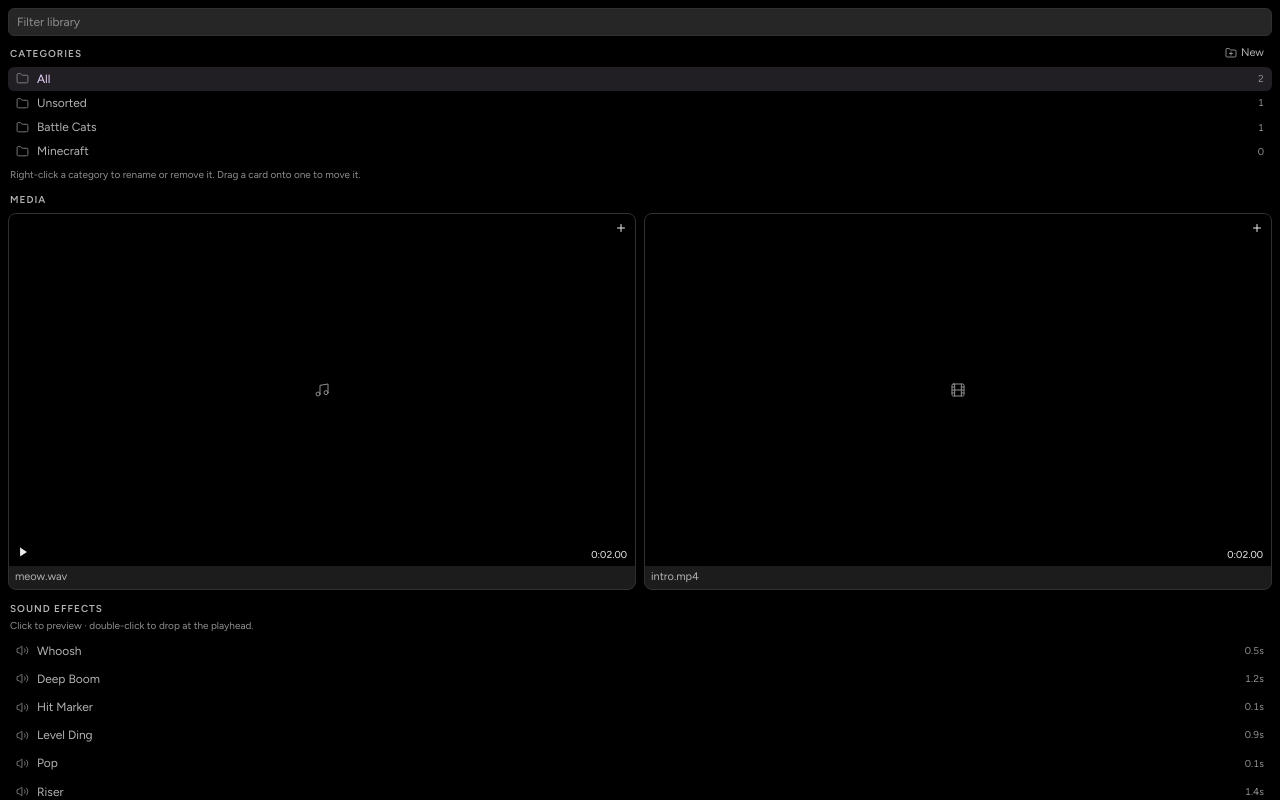
the Library tab with categories › shows only one category when he clicks it
Click the button with test id "library-category": (67, 127) [16,120,1264,134]
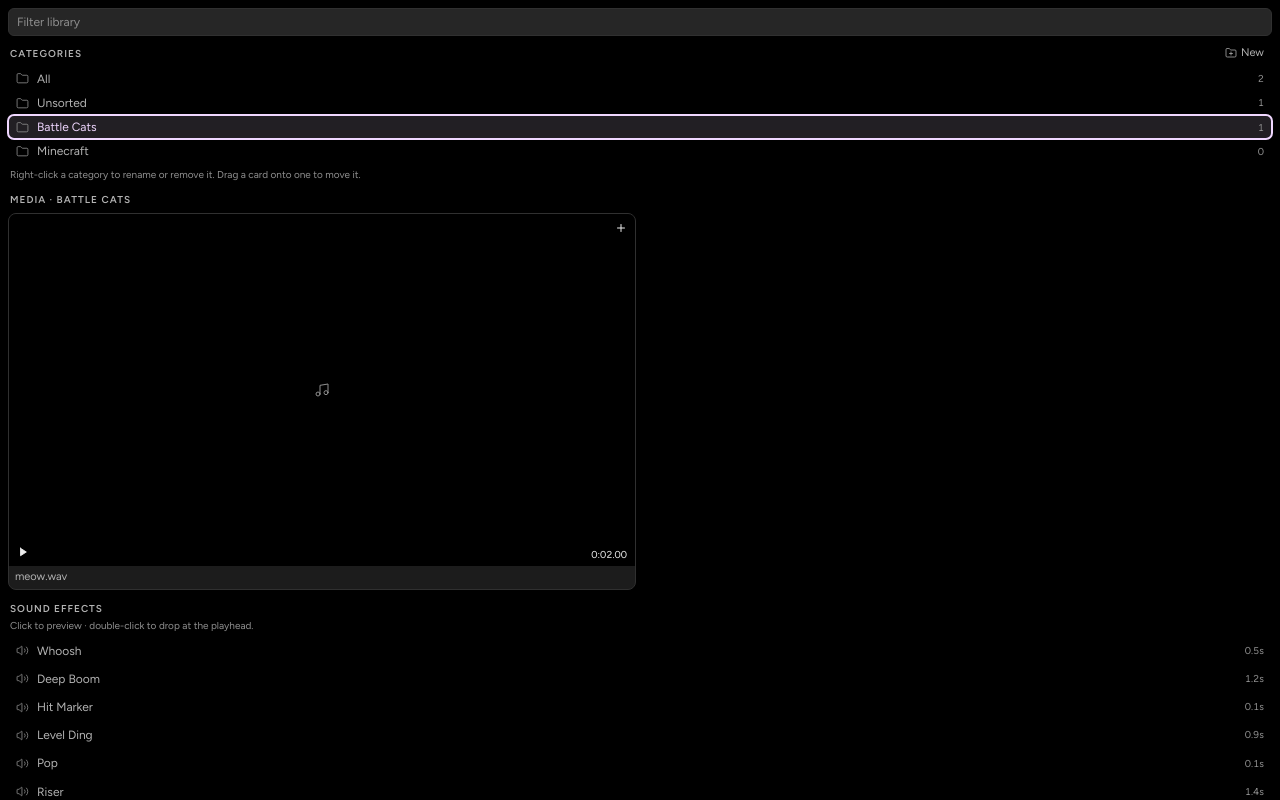
Result: the heading "Media · Battle Cats" is shown at [10,193,131,206]
Click the button with test id "library-category": (63, 151) [16,144,1264,158]
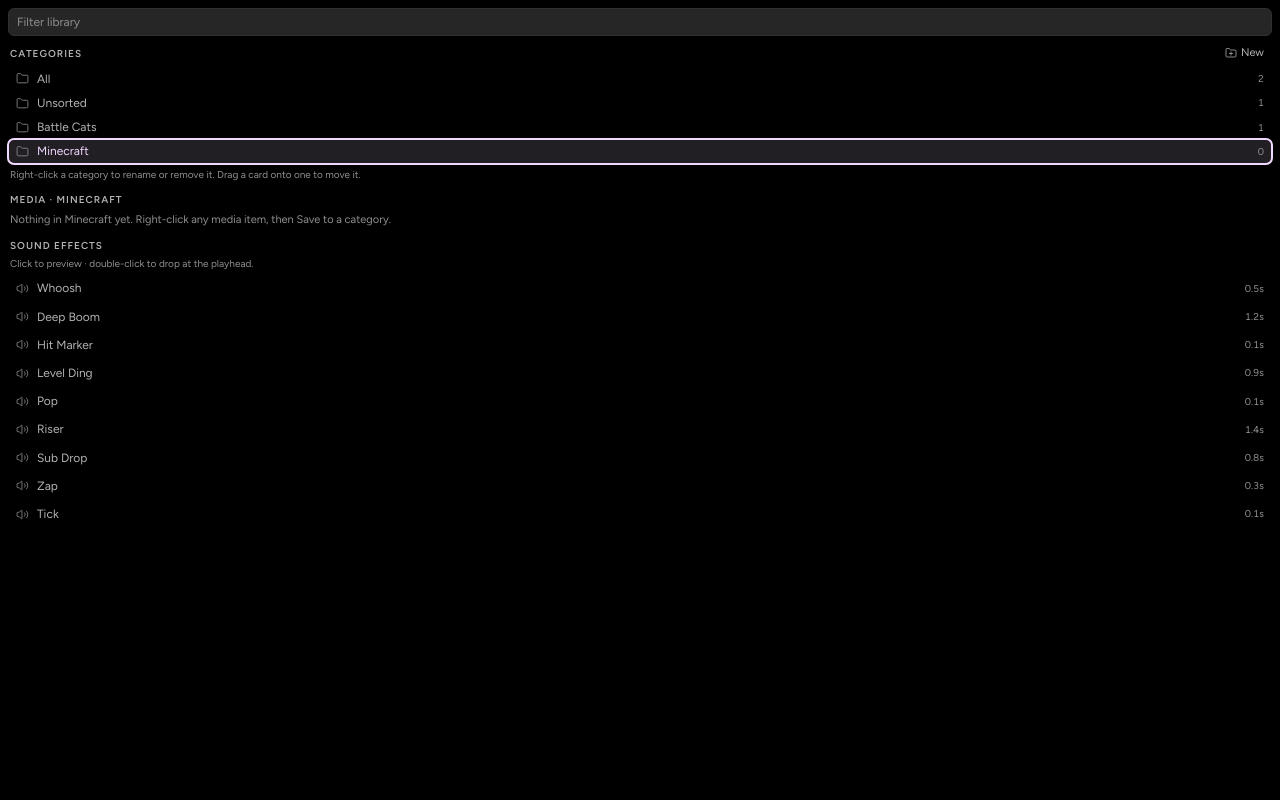
Result: the text with test id "library-view-empty" shows "Nothing in Minecraft yet" at [10,213,391,226]
